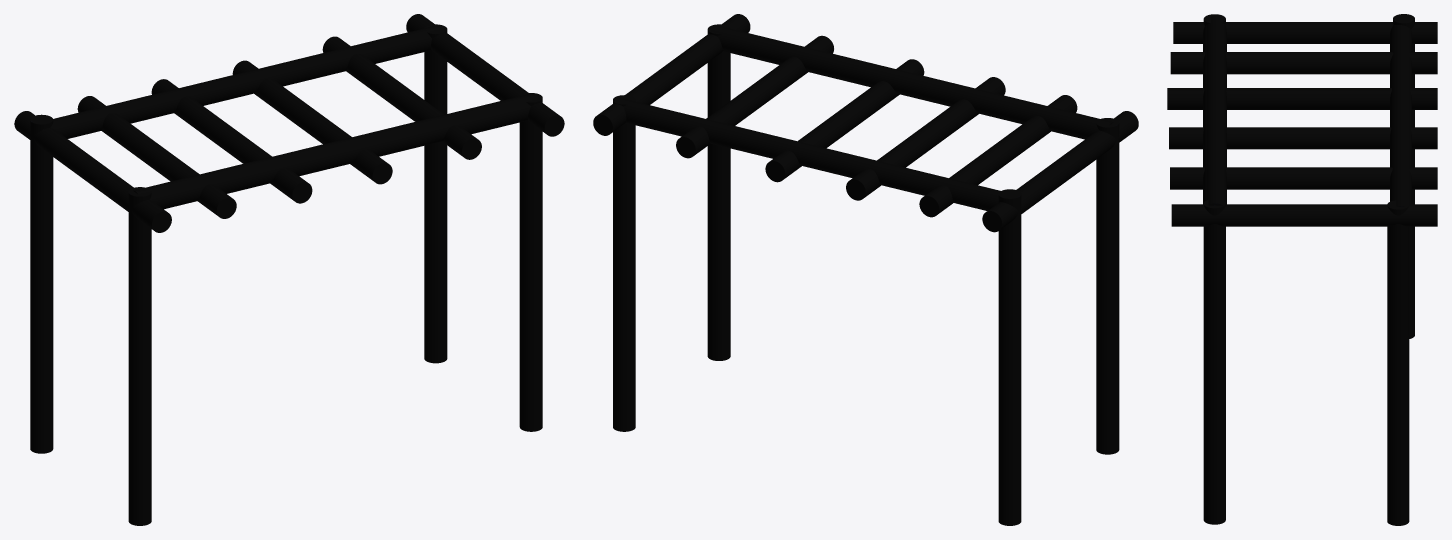
The model's file is playground.glb.
3 views of the same model, side by side, from view 1: azimuth 30°, elevation 25°; view 2: azimuth 150°, elevation 25°; view 3: azimuth 270°, elevation 25° (orthographic). The views are drawn at different scales.
Parts seen in each view (by area): view 1: mesh_id340, mesh_id304, mesh_id298, mesh_id310, mesh_id322, mesh_id346, mesh_id347, mesh_id359, mesh_id369, mesh_id366, mesh_id367, mesh_id368 (+2 smaller); view 2: mesh_id347, mesh_id340, mesh_id304, mesh_id298, mesh_id322, mesh_id310, mesh_id359, mesh_id369, mesh_id367, mesh_id366, mesh_id368, mesh_id360 (+1 smaller); view 3: mesh_id322, mesh_id310, mesh_id359, mesh_id369, mesh_id366, mesh_id368, mesh_id367, mesh_id360, mesh_id340, mesh_id347, mesh_id353, mesh_id304 (+1 smaller).
Part boxes in pixels (x1,y1,x2,y2): mesh_id340: (43,25,440,138); mesh_id304: (30,114,53,453); mesh_id298: (128,187,151,525); mesh_id310: (519,93,542,431); mesh_id322: (424,24,447,363); mesh_id346: (150,104,530,209); mesh_id347: (133,93,538,195); mesh_id359: (406,14,564,136); mesh_id369: (77,96,236,218); mesh_id366: (322,36,481,159); mesh_id367: (151,79,312,203); mesh_id368: (232,60,392,184); mesh_id347: (711,25,1113,138); mesh_id340: (616,98,1000,210); mesh_id304: (998,189,1021,525); mesh_id298: (1096,118,1119,454); mesh_id322: (613,95,635,431); mesh_id310: (707,24,730,360); mesh_id359: (593,14,750,135); mesh_id369: (919,95,1077,217); mesh_id367: (846,77,1005,200); mesh_id366: (676,35,833,158); mesh_id368: (765,59,924,182); mesh_id360: (982,125,1123,232); mesh_id322: (1387,200,1409,525); mesh_id310: (1203,200,1225,524); mesh_id359: (1171,204,1437,226); mesh_id369: (1170,52,1437,74); mesh_id366: (1170,167,1437,189); mesh_id368: (1169,127,1437,149); mesh_id367: (1167,88,1437,109); mesh_id360: (1202,22,1437,43); mesh_id340: (1390,24,1411,206); mesh_id347: (1207,16,1226,205); mesh_id353: (1173,22,1437,43); mesh_id304: (1393,14,1414,338).
Bounding box in the file's own units: 0.4231 × 0.3267 × 0.2503.
17 materials, 17 textured.
